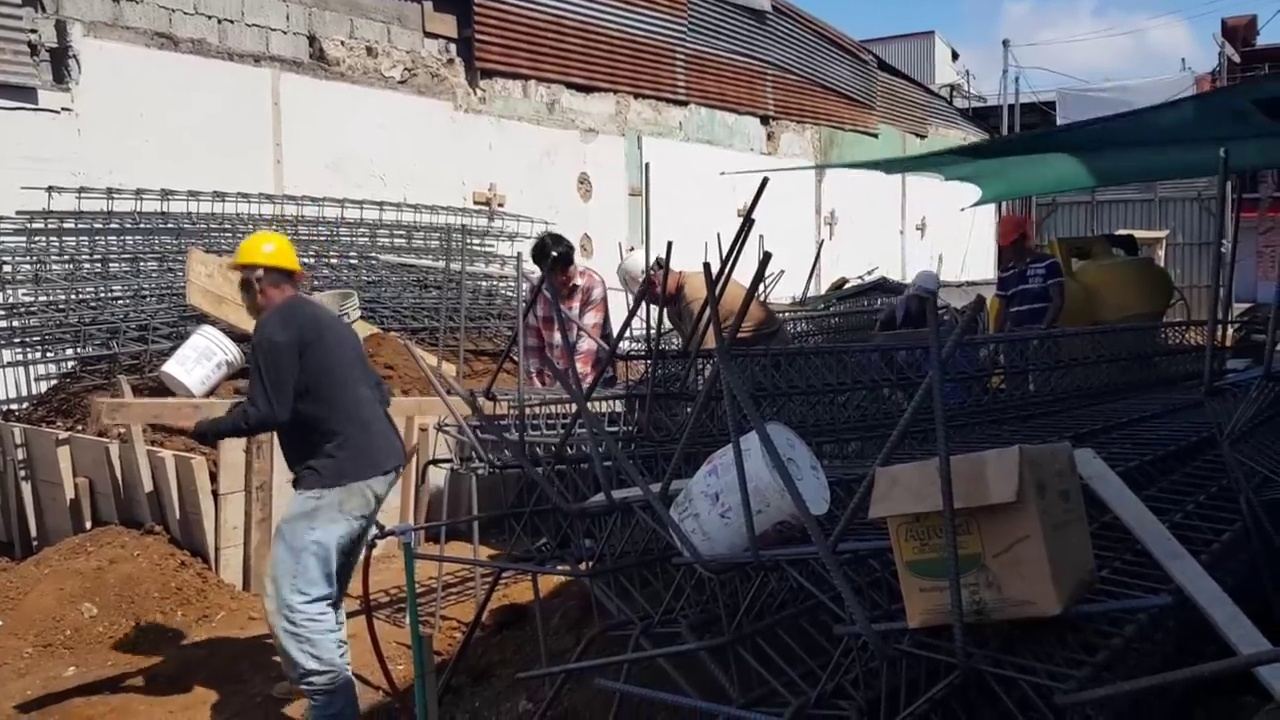helmet: (223, 233, 301, 275), (619, 246, 660, 306), (996, 212, 1028, 248), (909, 270, 942, 298)
helmet-off: (525, 231, 572, 292)
helmet-on: (220, 234, 299, 317), (619, 245, 674, 307), (994, 211, 1032, 267), (899, 270, 943, 315)
person: (170, 207, 404, 695), (618, 242, 790, 350), (521, 233, 608, 395), (987, 214, 1068, 336), (873, 270, 943, 335)
